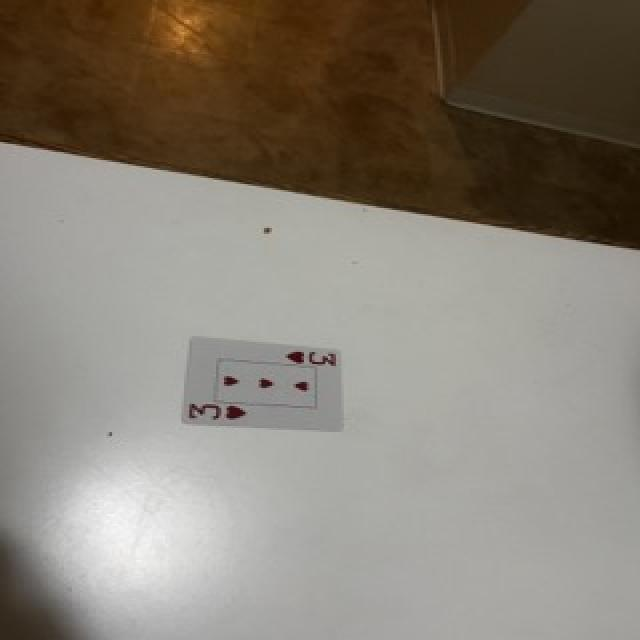3 of hearts: (182, 338, 342, 431)
